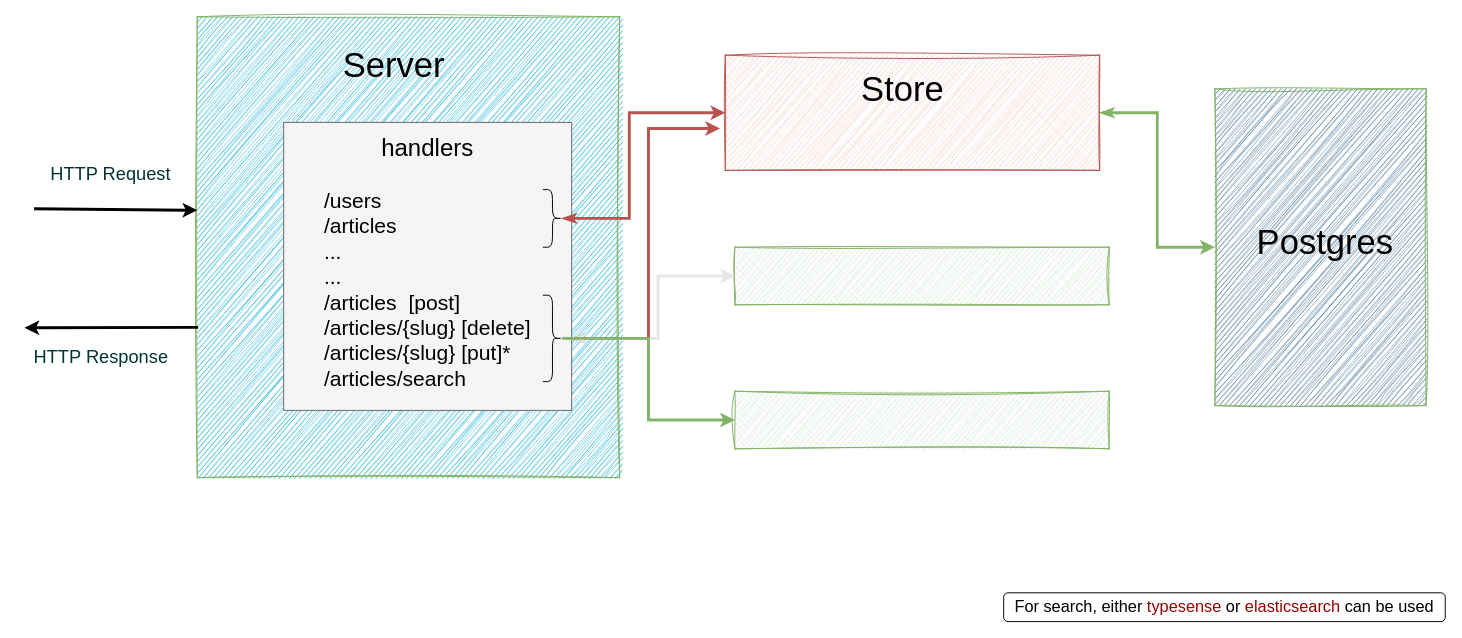
This 1462x638 diagram has some shape labels left out. The box of each missing label's shape, as (x1, y1, x2, y2) in pixels:
Elasticsearch: (734, 246, 1109, 305)
Typesense: (734, 390, 1109, 449)
